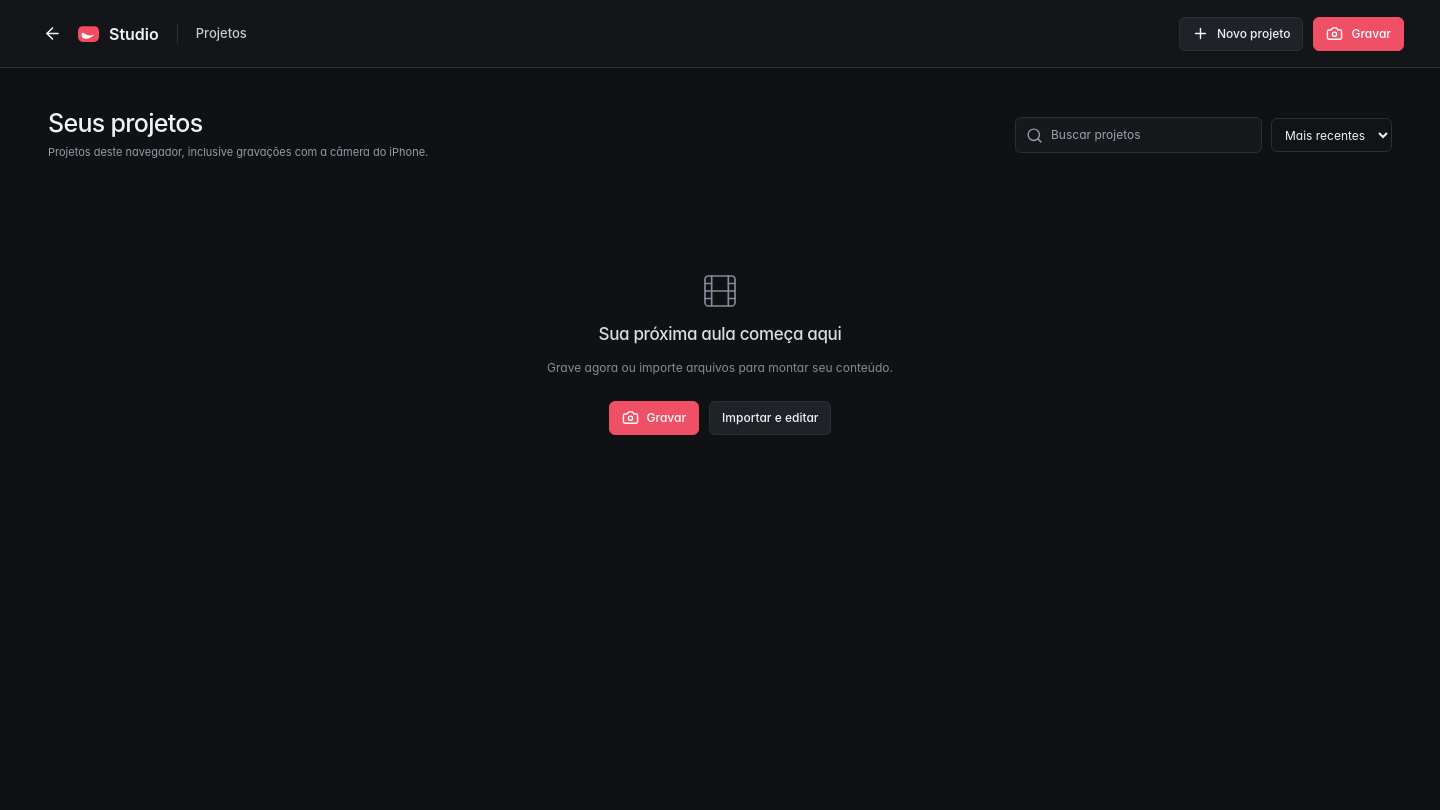
Test case: galeria desktop de projetos reais › estado vazio oferece gravação e importação como escolhas distintas sem escrita automática
The width and height of the screenshot is (1440, 810).
Later steps or results of the test are not shown.
Click the button "Importar e editar": click(770, 418) [709,401,831,435]
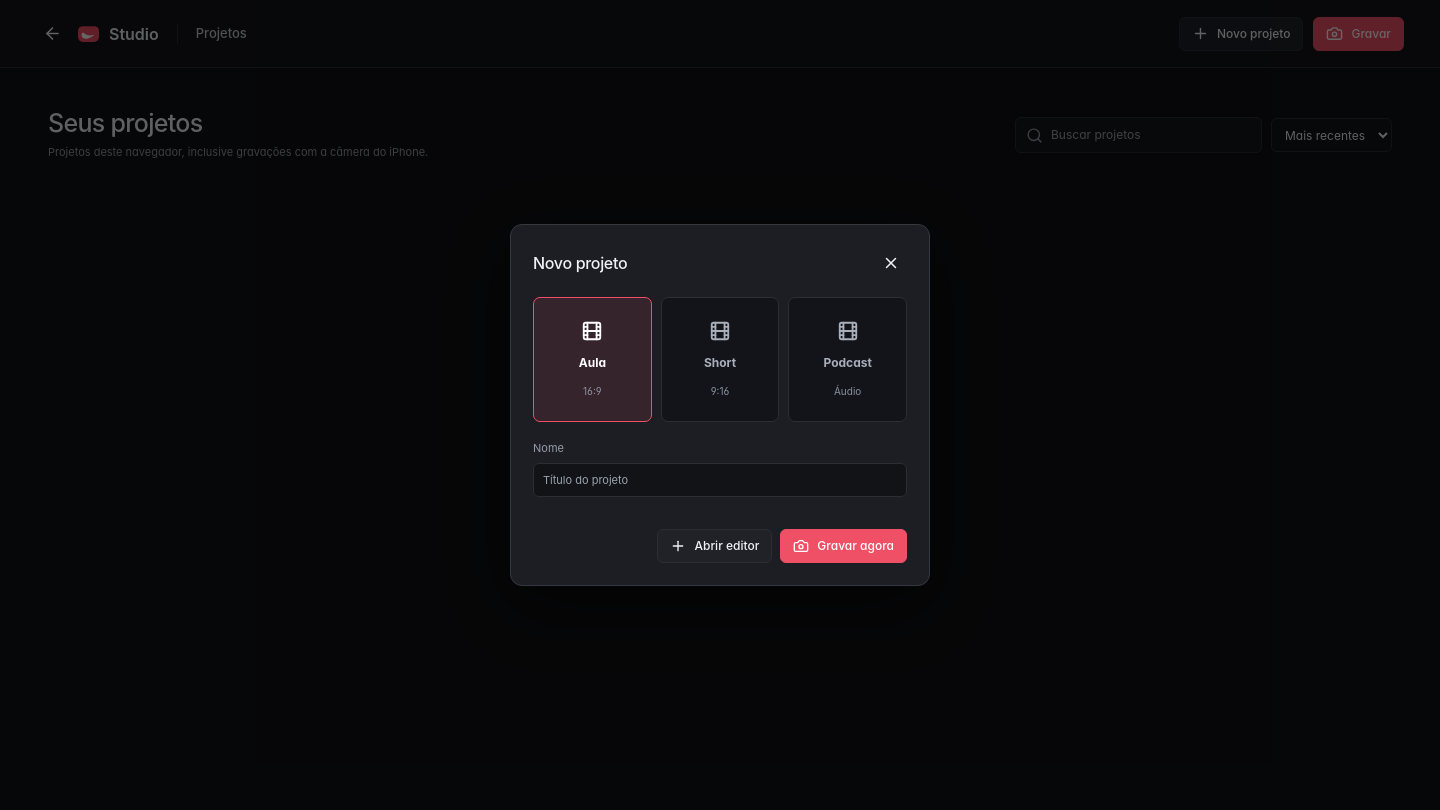
Expected: the button named "Fechar opções" is shown, [875,247,907,279]
